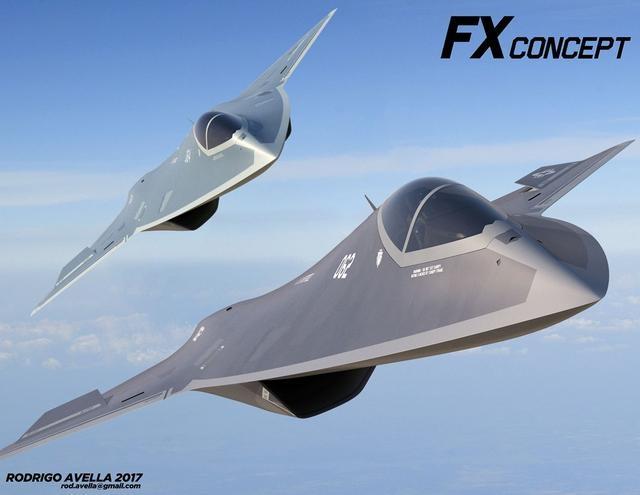airplane: (4, 139, 636, 461), (26, 7, 340, 317)
